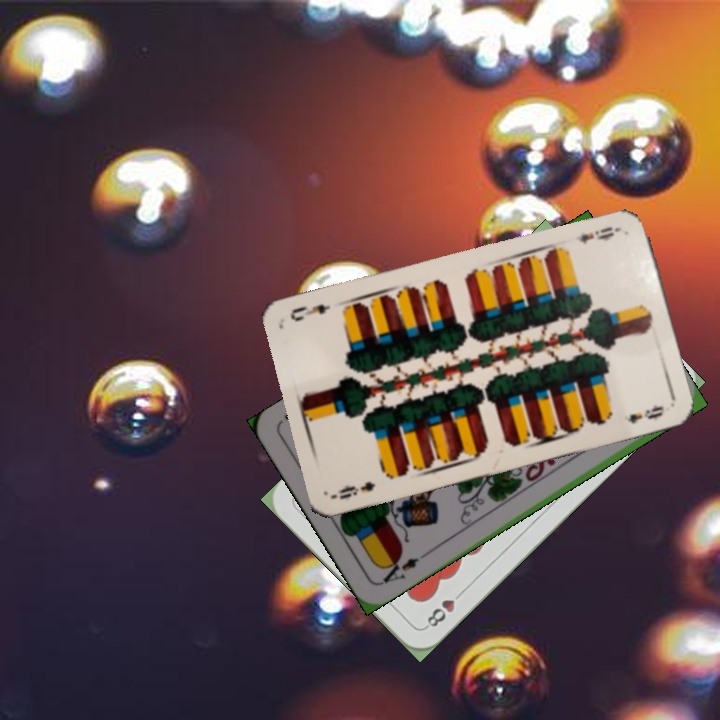E9: (572, 222, 623, 247), (331, 477, 378, 502)
EA: (376, 549, 429, 587)
H8: (421, 585, 467, 631)
